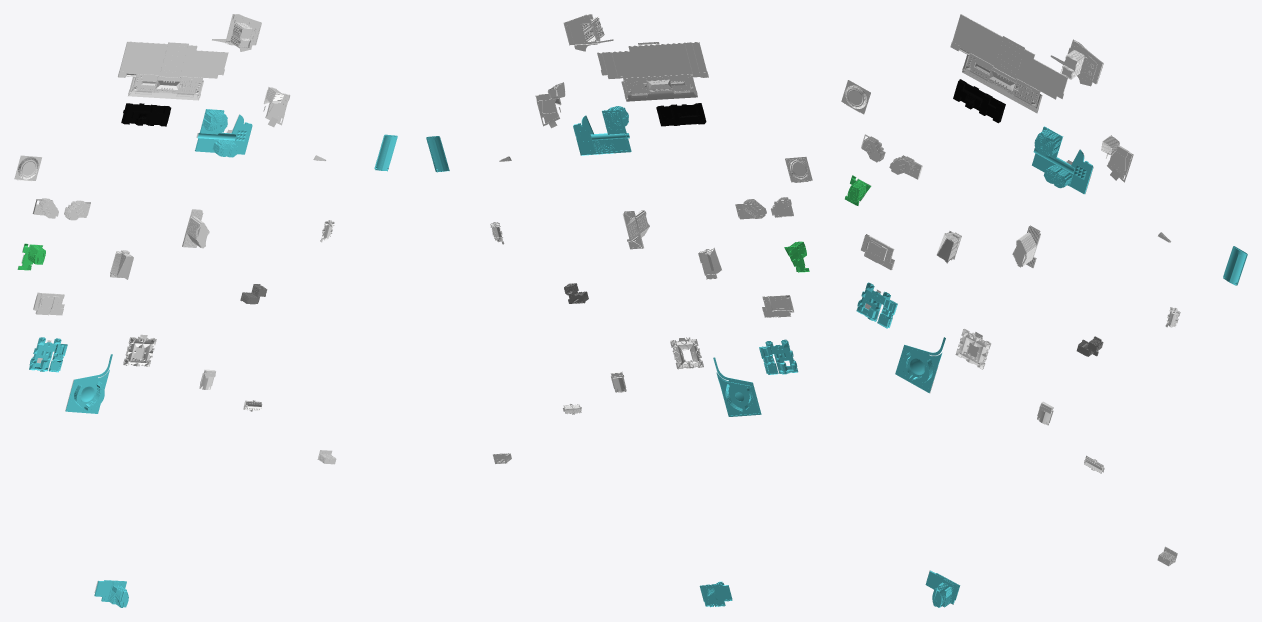
3 renders of one model, left to right at view 1: azimuth 30°, elevation 25°; view 2: azimuth 150°, elevation 25°; view 3: azimuth 330°, elevation 25°, orthographic. The views are drawn at different scales.
Bounding box in the file's own units: 5919 × 8282 × 276.
